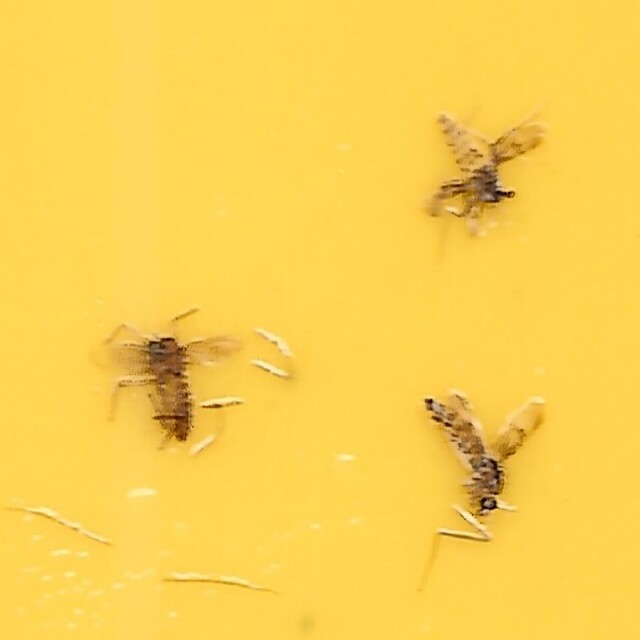Nematocera: (89, 319, 245, 455), (408, 392, 551, 532), (420, 108, 543, 225)
